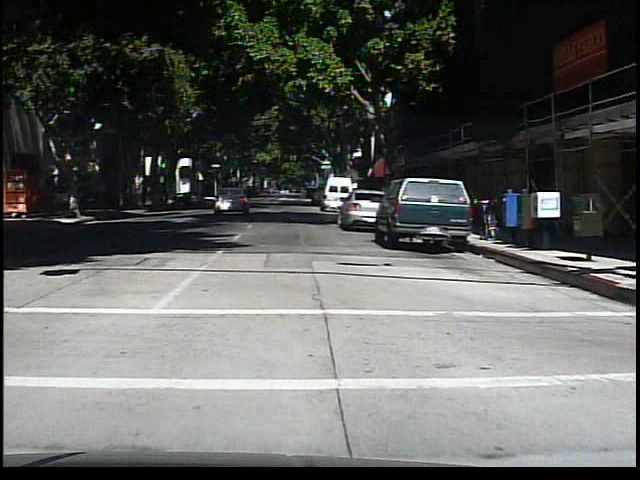person: (62, 179, 79, 219), (294, 180, 310, 206)
